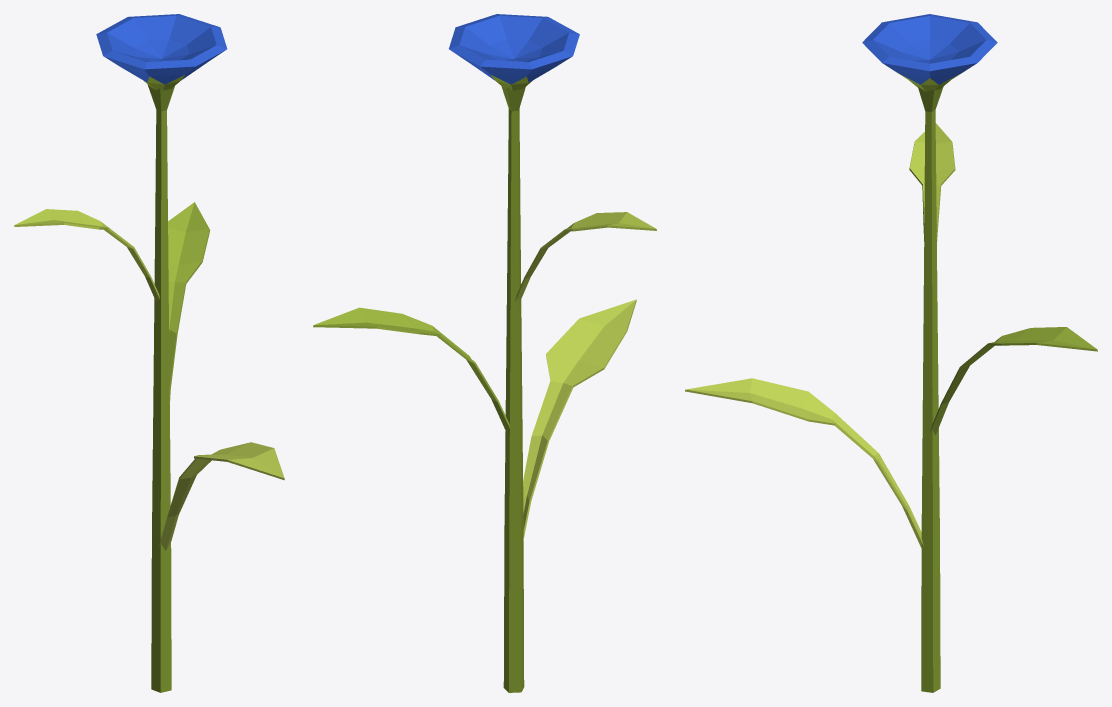
File: LPW_Flower_A1_H70cm_01.fbx
3 renders of one model, left to right at view 1: azimuth 30°, elevation 25°; view 2: azimuth 150°, elevation 25°; view 3: azimuth 270°, elevation 25°, orthographic.
Visible parts, largest first — view 1: LPW_Flower_A1_H70cm_01; view 2: LPW_Flower_A1_H70cm_01; view 3: LPW_Flower_A1_H70cm_01.
Boxes of the visible parts, x1,y1,x2,y2 form: LPW_Flower_A1_H70cm_01: [14, 14, 284, 692]; LPW_Flower_A1_H70cm_01: [313, 14, 656, 692]; LPW_Flower_A1_H70cm_01: [685, 14, 1097, 692].
Size of the model in its own units: 0.2903 by 0.6877 by 0.3965.
